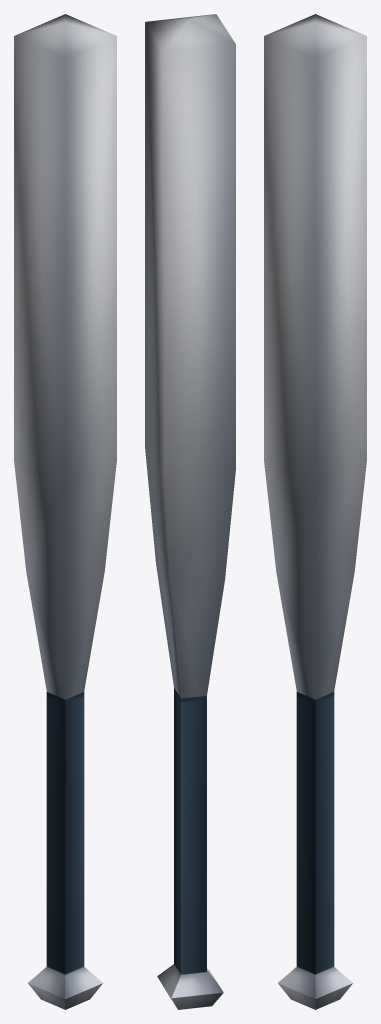
Rendered from bat.fbx.
3 renders of one model, left to right at view 1: azimuth 90°, elevation 25°; view 2: azimuth 150°, elevation 25°; view 3: azimuth 270°, elevation 25°, orthographic.
Visible parts, largest first — view 1: Cylinder01; view 2: Cylinder01; view 3: Cylinder01.
Boxes of the visible parts, x1=… form: Cylinder01: x1=14, y1=14, x2=116, y2=1009; Cylinder01: x1=145, y1=14, x2=235, y2=1009; Cylinder01: x1=264, y1=14, x2=366, y2=1009.
Size of the model in its own units: 0.0856 by 0.8848 by 0.0845.
